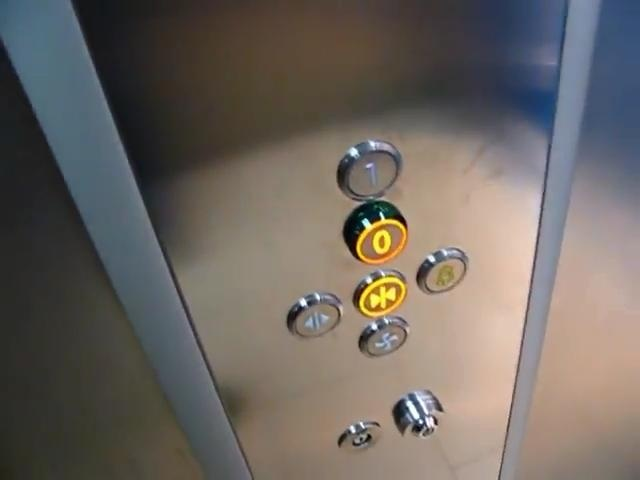0: (343, 200, 409, 265)
1: (336, 139, 402, 202)
alarm: (416, 247, 469, 299)
close: (351, 268, 409, 318)
fan: (357, 316, 411, 360)
keyhole: (391, 388, 447, 441), (337, 419, 383, 455)
open: (286, 292, 344, 341)
